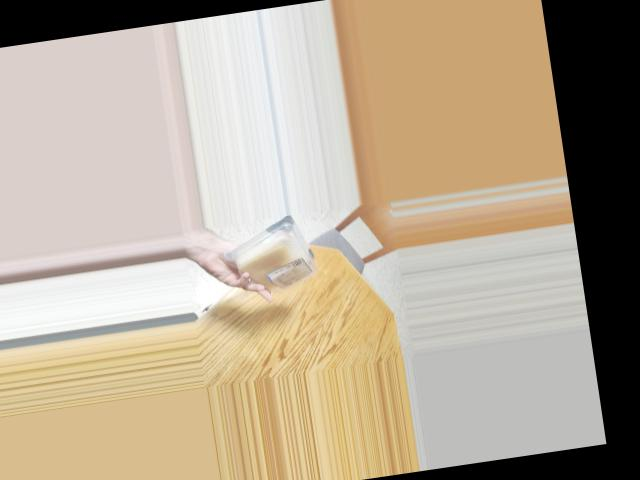cheese: (230, 218, 318, 296)
